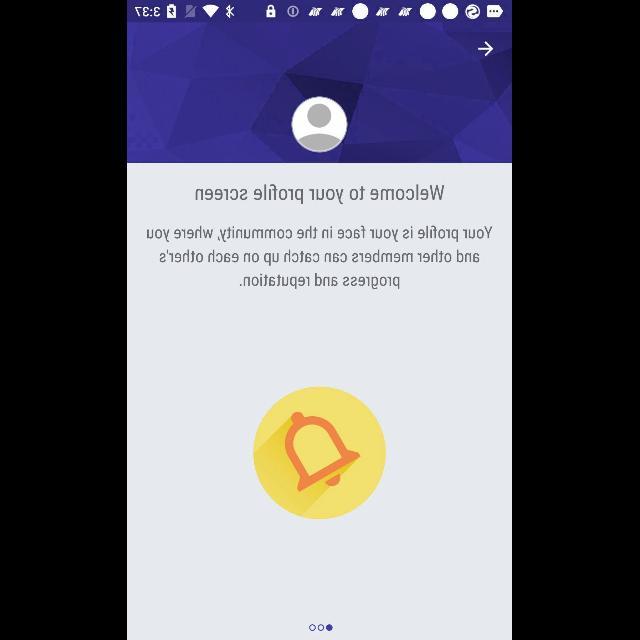icon: (292, 97, 348, 153), (478, 42, 494, 56)
image: (254, 386, 386, 520)
pageindicator: (310, 624, 334, 632)
text: (148, 226, 494, 290), (197, 184, 446, 206)
uppertaskbar: (128, 1, 512, 23)
